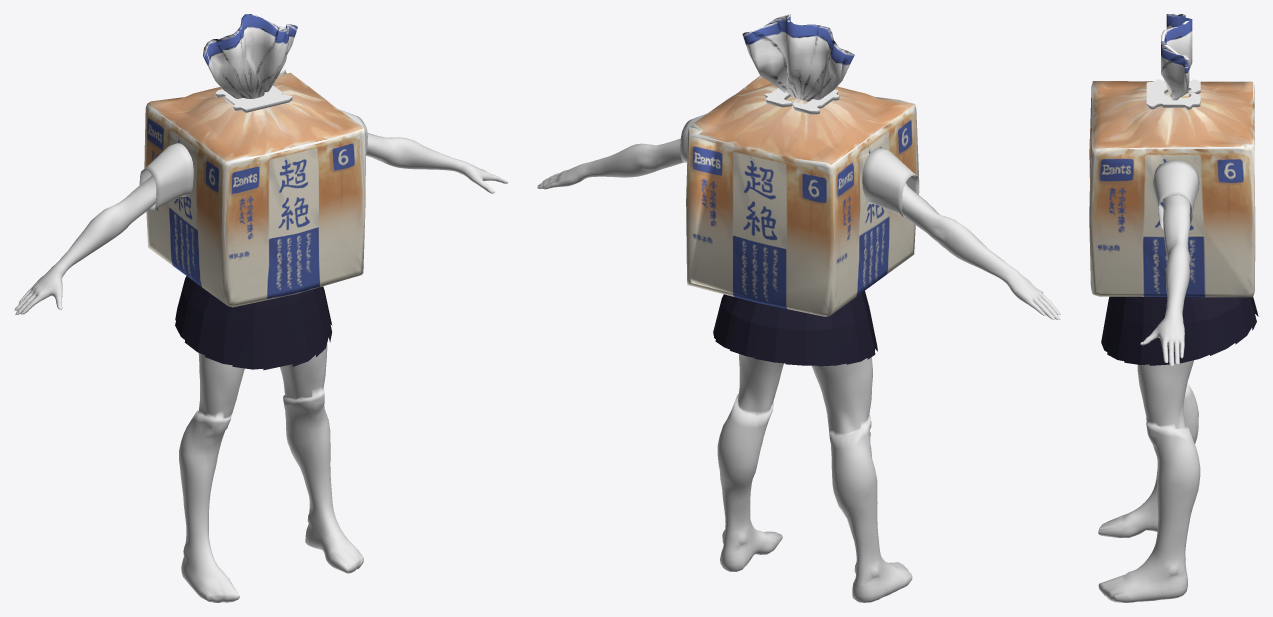
The model's file is jk_bread.fbx.
3 renders of one model, left to right at view 1: azimuth 30°, elevation 25°; view 2: azimuth 150°, elevation 25°; view 3: azimuth 270°, elevation 25°, orthographic. The views are drawn at different scales.
Parts seen in each view (by area): view 1: バッククロージャー; view 2: バッククロージャー; view 3: バッククロージャー.
Part boxes in pixels (x1,y1,x2,y2): バッククロージャー: (14,14,508,602); バッククロージャー: (537,14,1060,602); バッククロージャー: (1089,14,1258,602).
Bounding box in the file's own units: 388 × 406 × 114.
Materials: 8 (1 with a texture image).
